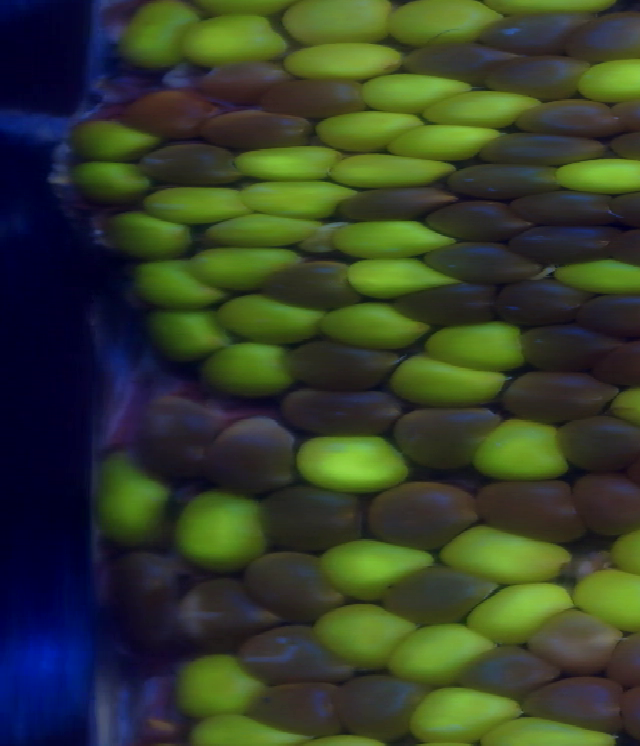fluorescent: (172, 495, 278, 572), (377, 617, 498, 684), (471, 414, 583, 486), (288, 431, 414, 492), (92, 448, 173, 542), (196, 335, 305, 404), (439, 526, 562, 585), (391, 349, 513, 406), (411, 685, 523, 746), (417, 317, 534, 374), (317, 601, 417, 663), (169, 655, 269, 716), (390, 1, 513, 50), (141, 300, 234, 364), (322, 543, 440, 592), (279, 1, 402, 48), (327, 149, 454, 192), (327, 295, 422, 352), (170, 18, 292, 62), (384, 116, 499, 162), (345, 256, 477, 296), (471, 586, 576, 636), (218, 303, 329, 349), (190, 244, 308, 287), (187, 711, 331, 746), (116, 2, 202, 60), (477, 713, 620, 746), (133, 262, 233, 309), (280, 41, 406, 78), (551, 152, 640, 202), (363, 68, 466, 111), (577, 566, 640, 633), (334, 221, 448, 256), (239, 182, 355, 216), (104, 216, 197, 258), (145, 189, 254, 224), (571, 52, 640, 107), (235, 148, 352, 180), (320, 109, 418, 147), (553, 256, 640, 297), (67, 118, 153, 158), (65, 160, 148, 199), (204, 217, 317, 242), (608, 511, 640, 584), (609, 376, 640, 437)
nonfluorescent: (241, 555, 365, 624), (475, 480, 588, 552), (128, 401, 233, 478), (226, 625, 362, 683), (363, 488, 493, 548), (106, 555, 188, 650), (170, 579, 288, 644), (530, 605, 632, 678), (260, 480, 372, 544), (328, 669, 434, 736), (529, 664, 634, 731), (244, 674, 341, 746), (503, 367, 625, 420), (396, 412, 504, 469), (284, 386, 409, 435), (386, 278, 505, 329), (457, 640, 564, 696), (208, 430, 299, 494), (293, 340, 411, 388), (258, 259, 365, 311), (381, 571, 500, 617), (558, 416, 640, 478), (515, 320, 612, 372), (516, 221, 618, 267), (489, 277, 588, 324), (429, 241, 544, 281), (569, 474, 640, 538), (427, 202, 536, 242), (488, 54, 586, 97), (399, 39, 507, 78), (263, 80, 368, 120), (518, 96, 617, 138), (478, 130, 604, 163), (209, 106, 318, 144), (121, 90, 212, 132), (138, 147, 243, 182), (511, 187, 615, 221), (572, 12, 640, 62), (196, 62, 291, 97), (484, 13, 579, 47), (340, 191, 456, 216), (454, 168, 565, 191), (585, 293, 640, 336), (596, 338, 640, 382), (604, 221, 640, 273), (610, 188, 640, 227), (609, 130, 640, 157)
